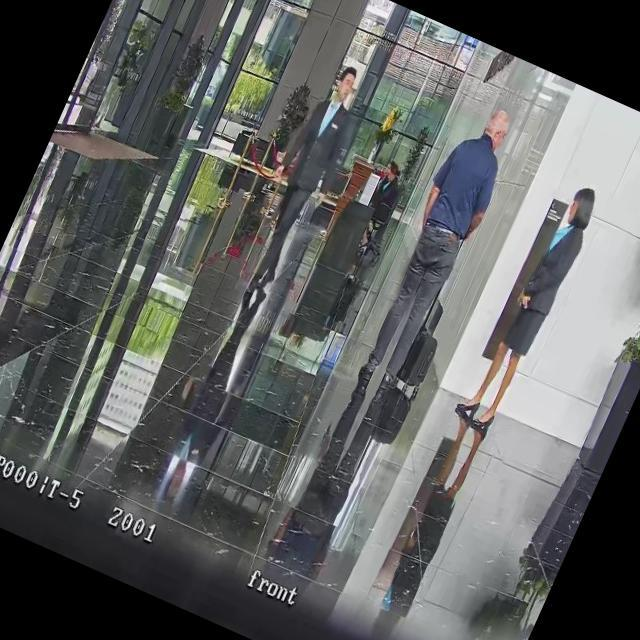person: (338, 96, 526, 417), (450, 174, 604, 438), (227, 56, 375, 305), (360, 160, 412, 234)
